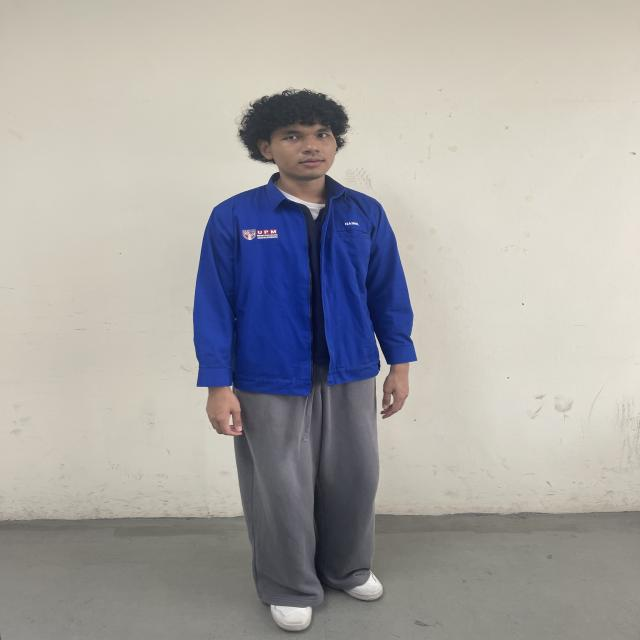person_with_labcoat: (193, 90, 416, 631)
